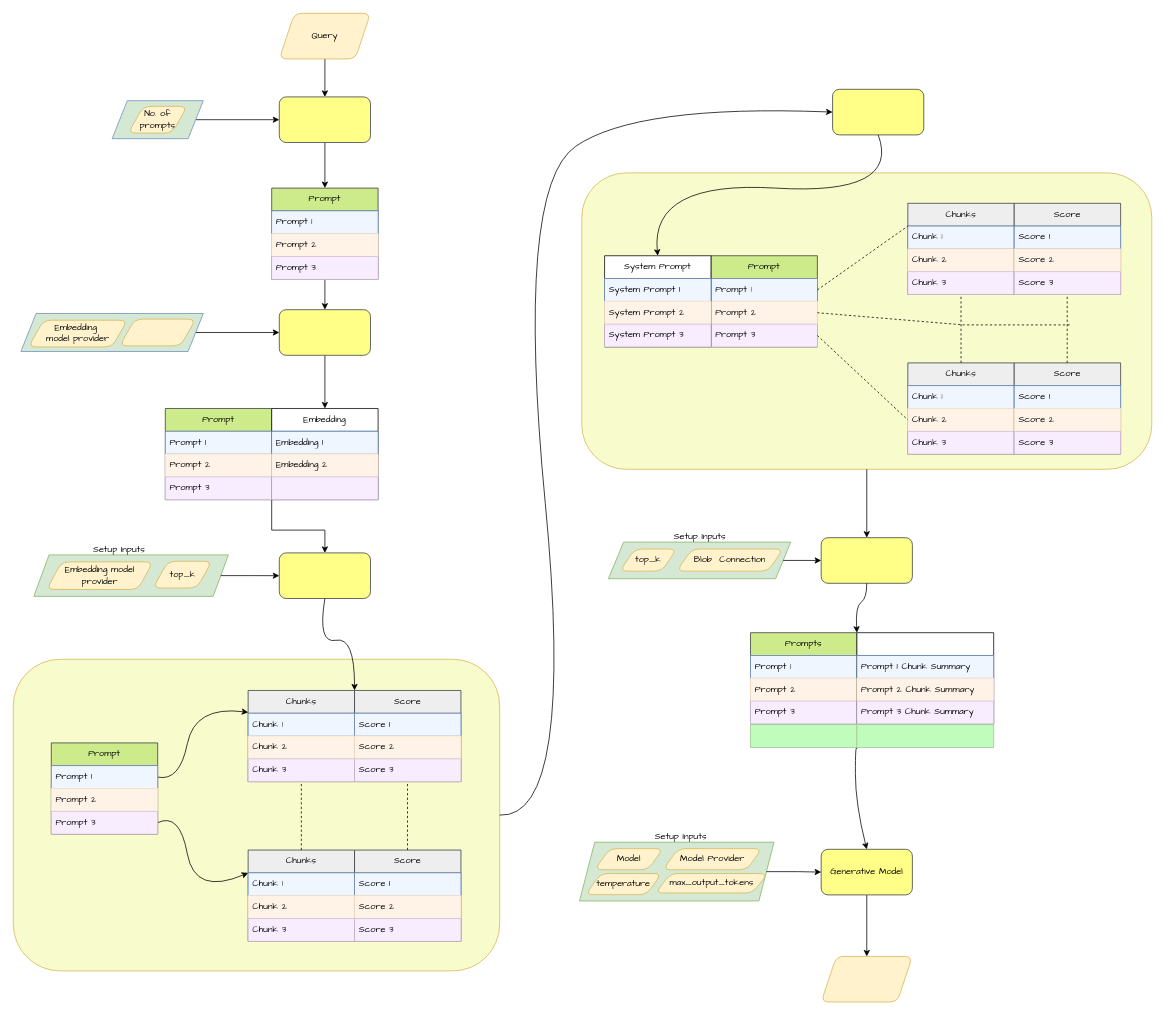
Some shapes in this 1165 by 1015 pixel diagram are drawn without their labels. Here are the shapes that lost their labels. From the top down, the box of each, then its label:
(279, 96, 370, 142): Prompt Augmentation
(832, 89, 924, 135): Query Contextualization
(119, 318, 196, 346): Embedding model
(279, 309, 370, 355): Dense Embedding
(271, 476, 378, 500): Embedding 3
(279, 552, 370, 598): Standard RAG
(820, 537, 912, 583): Merge Fusion
(856, 632, 994, 724): Chunk Summaries
(750, 724, 857, 747): Prompt for KG
(856, 724, 994, 747): KG Summary
(820, 956, 912, 1002): Final Response
